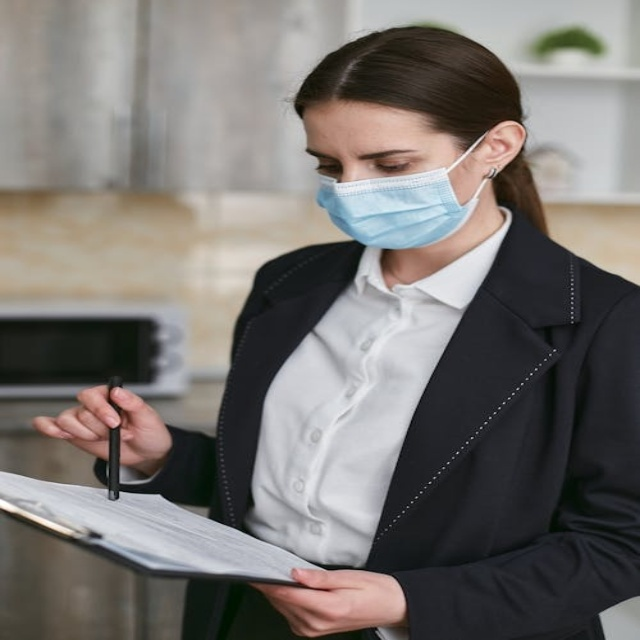Mascara: (316, 129, 494, 249)
Sin_gafas: (375, 160, 414, 172), (314, 162, 342, 174)
Sin_guantes: (35, 382, 171, 469), (251, 567, 398, 636)
